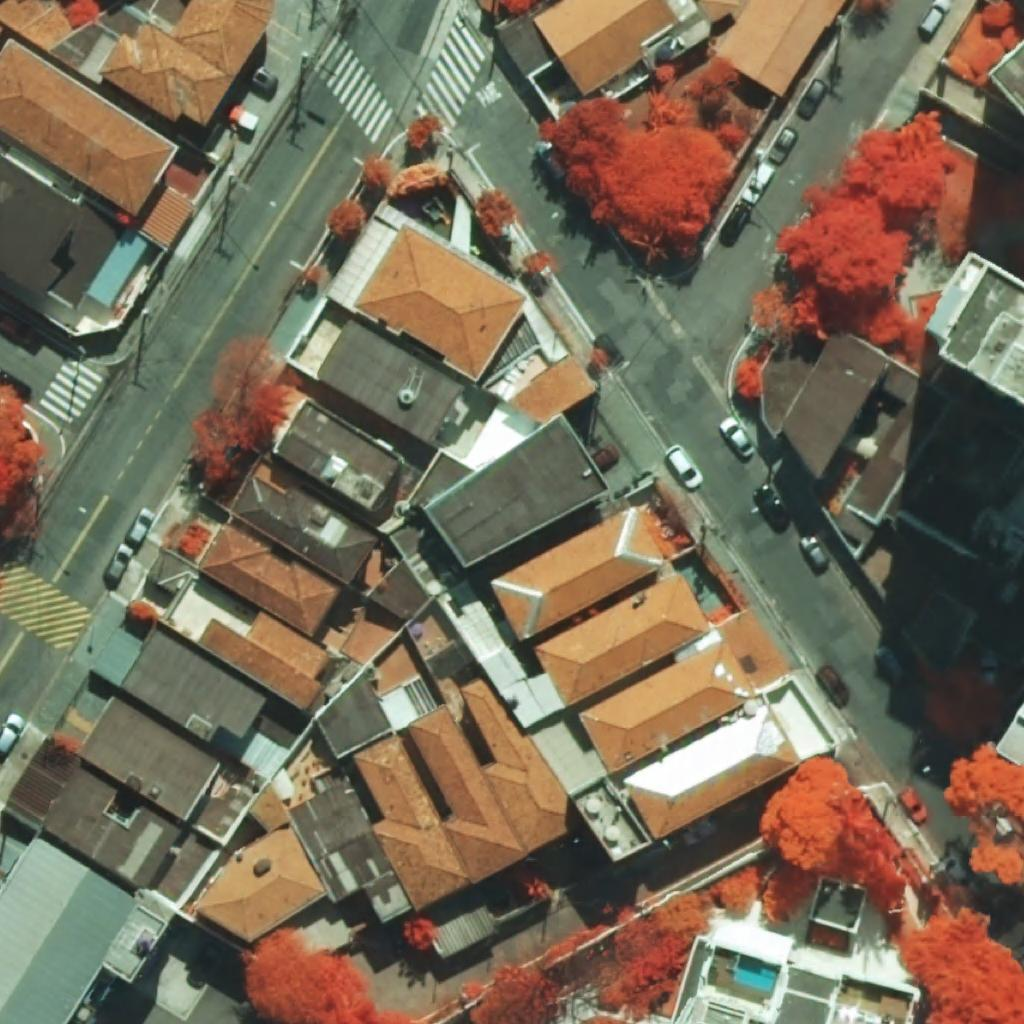pool: (734, 955, 780, 992)
